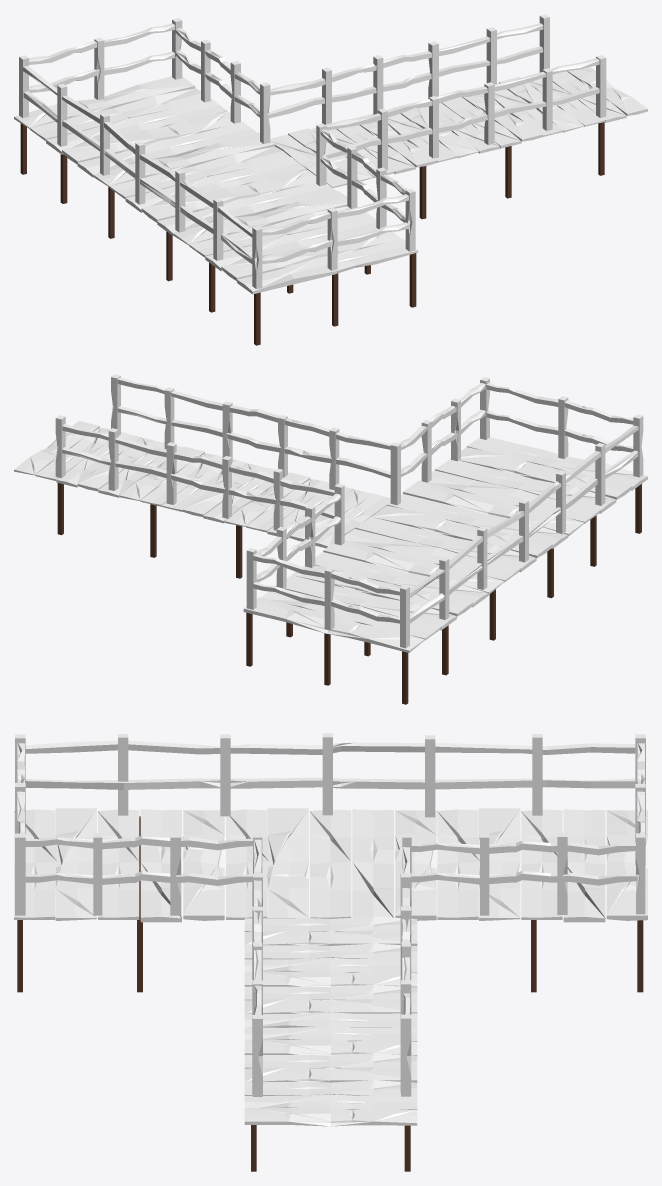
Rendered from plataformaLago.fbx.
3 views of the same model, one above another, from view 1: azimuth 30°, elevation 25°; view 2: azimuth 150°, elevation 25°; view 3: azimuth 270°, elevation 25° (orthographic). The views are drawn at different scales.
Visible parts, largest first — view 1: plataformaLago_terraza; view 2: plataformaLago_terraza; view 3: plataformaLago_terraza.
Boxes of the visible parts, x1,y1,x2,y2 form: plataformaLago_terraza: [14, 14, 647, 345]; plataformaLago_terraza: [14, 374, 647, 704]; plataformaLago_terraza: [14, 733, 647, 1171].
Size of the model in its own units: 2700 by 624 by 2315.
